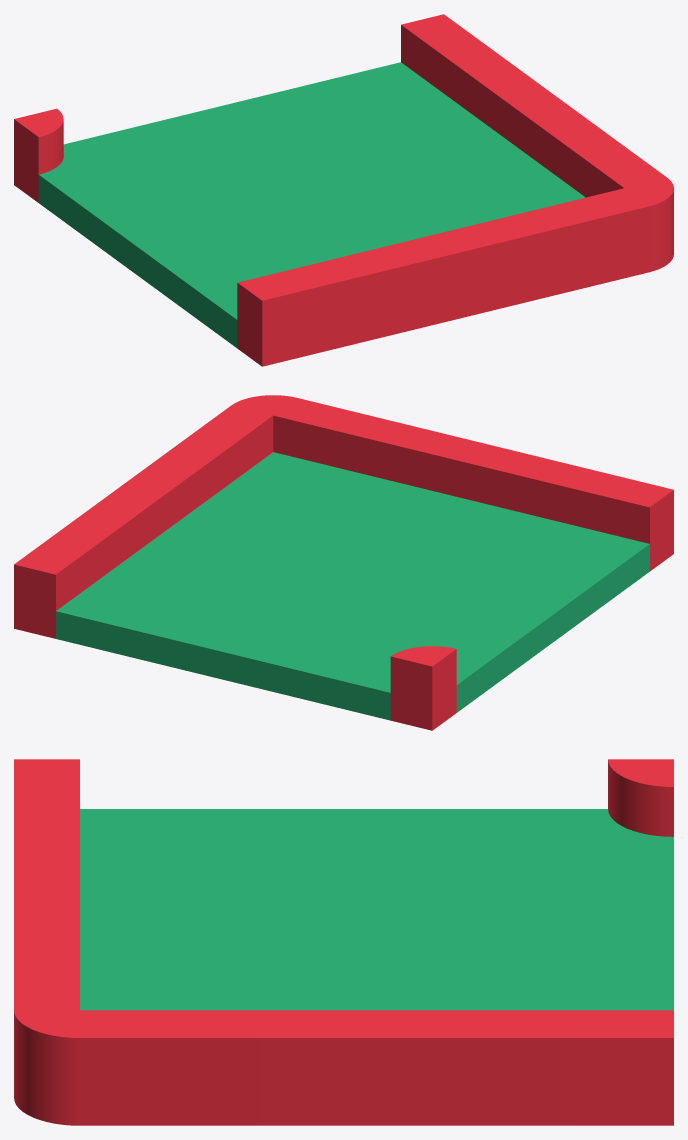
Rendered from squareCornerA.fbx.
The picture shows the model from 3 angles, top to bottom: view 1: azimuth 30°, elevation 25°; view 2: azimuth 150°, elevation 25°; view 3: azimuth 270°, elevation 25°; orthographic projection. The views are drawn at different scales.
Visible parts, largest first — view 1: squareCornerA; view 2: squareCornerA; view 3: squareCornerA.
Part boxes in pixels (x1,y1,x2,y2): squareCornerA: (14,14,673,366); squareCornerA: (14,395,673,730); squareCornerA: (14,759,673,1125).
Bounding box in the file's own units: 10 × 1.47 × 10.
